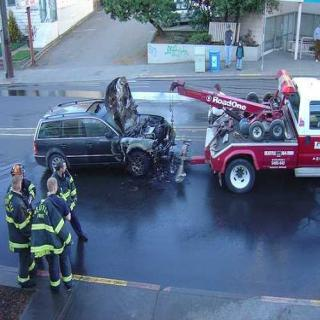Towing_truck: (168, 69, 319, 196)
